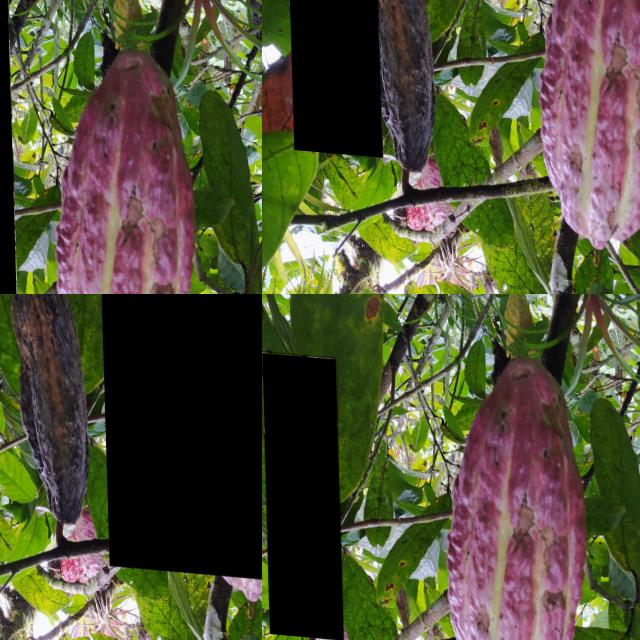Fitoftora: (96, 294, 262, 572), (0, 294, 110, 538), (262, 347, 341, 635)
Monilia: (286, 0, 380, 153)
Sana: (438, 341, 592, 640)
